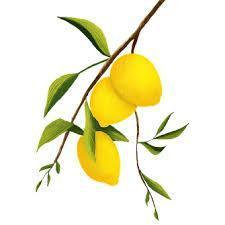lemon: (111, 54, 162, 106), (90, 76, 137, 128), (77, 130, 120, 186)
